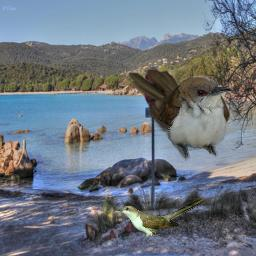Cuckoo: (128, 68, 234, 162), (116, 197, 203, 237)
